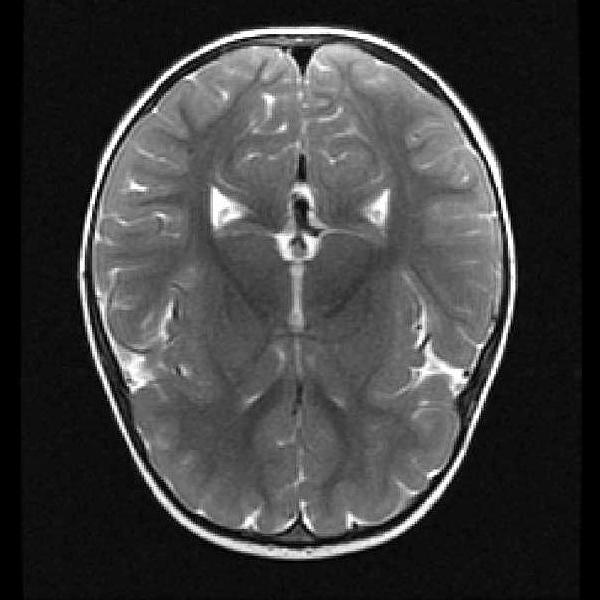Normal_Brain: (1, 1, 600, 600)
